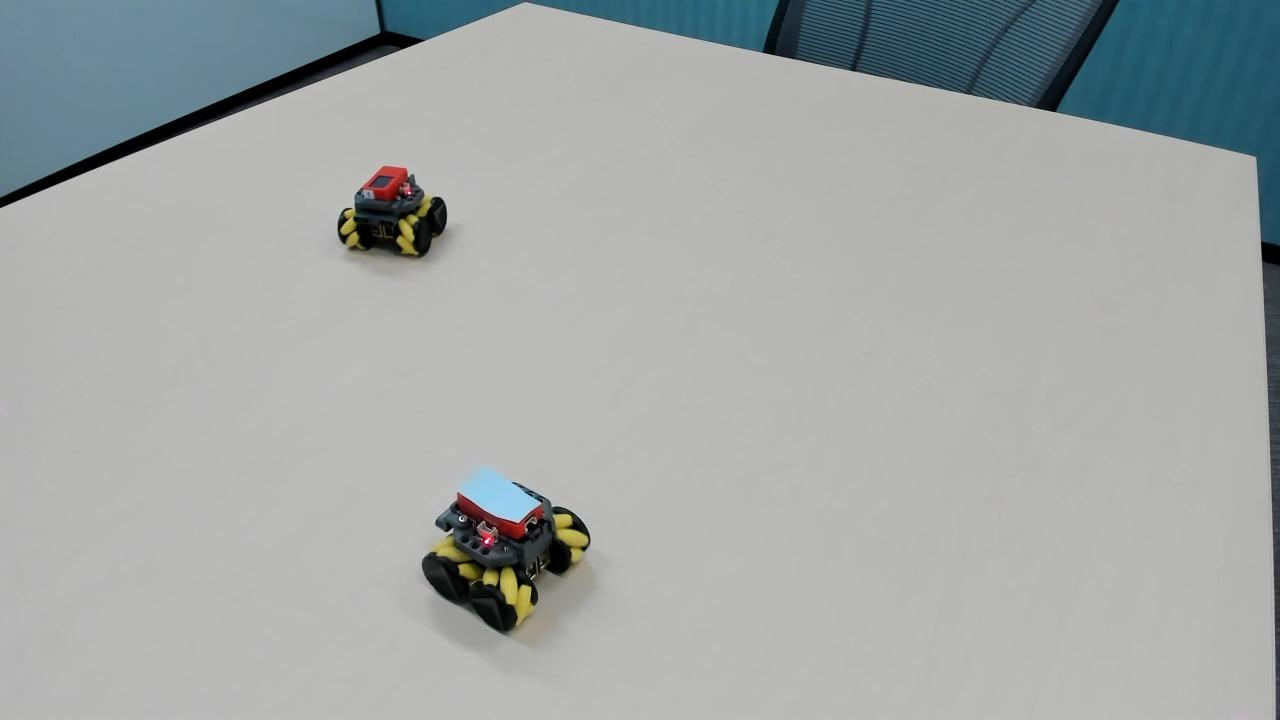B-Robot: (416, 460, 603, 649)
R-Robot: (318, 148, 461, 275)
